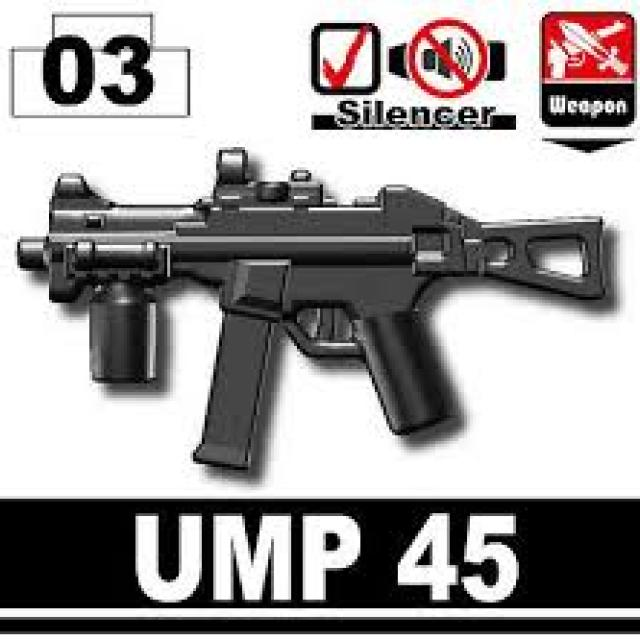Gun: (12, 156, 620, 482)
